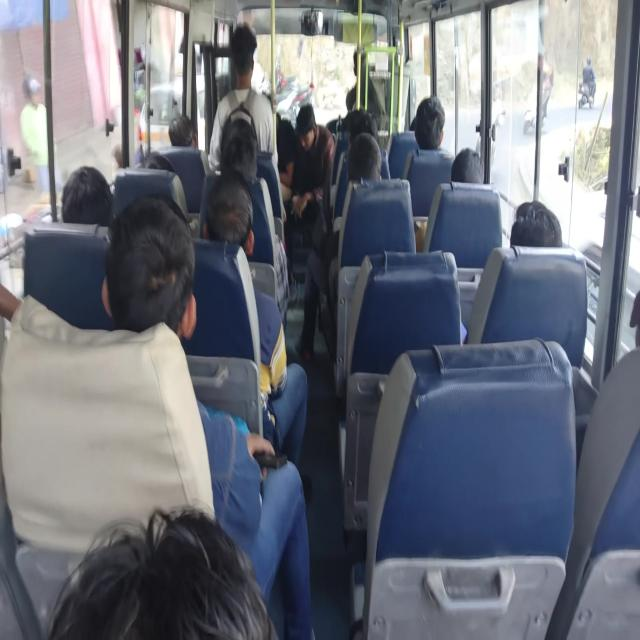person: (101, 194, 314, 638), (200, 171, 308, 467), (47, 503, 279, 639), (295, 131, 382, 361), (218, 113, 293, 329), (461, 200, 562, 342), (208, 22, 274, 172), (289, 102, 335, 226), (19, 74, 62, 195), (61, 165, 113, 225), (345, 48, 386, 116), (510, 200, 562, 248), (413, 95, 446, 150), (347, 132, 382, 183), (450, 147, 484, 184), (578, 55, 596, 106), (168, 113, 195, 146)
